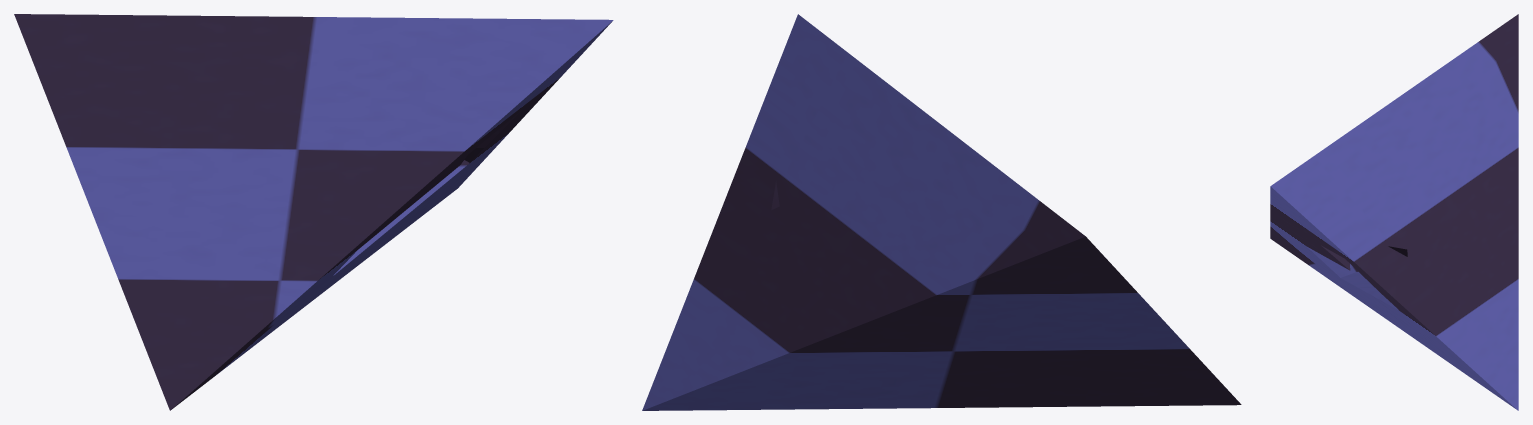
The picture shows the model from 3 angles, left to right: view 1: azimuth 30°, elevation 25°; view 2: azimuth 150°, elevation 25°; view 3: azimuth 270°, elevation 25°; orthographic projection. The views are drawn at different scales.
Visible parts, largest first — view 1: geometry_0; view 2: geometry_0; view 3: geometry_0.
Boxes of the visible parts, x1,y1,x2,y2 form: geometry_0: [14, 14, 613, 410]; geometry_0: [642, 14, 1241, 410]; geometry_0: [1270, 14, 1518, 410].
Size of the model in its own units: 1.82 by 1.11 by 1.11.
Materials: 1 (1 with a texture image).
